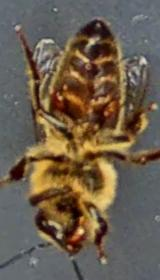varroa_mite: (93, 94, 137, 128), (46, 85, 70, 118)
